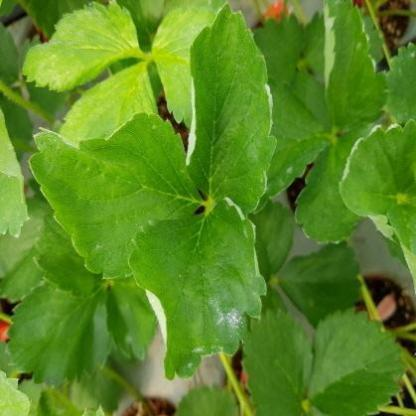Strawberry_Powdery_Mildew_Leaf: (28, 111, 204, 279), (127, 196, 268, 382), (186, 2, 276, 214), (256, 77, 332, 213), (336, 119, 415, 243), (323, 0, 390, 138)
